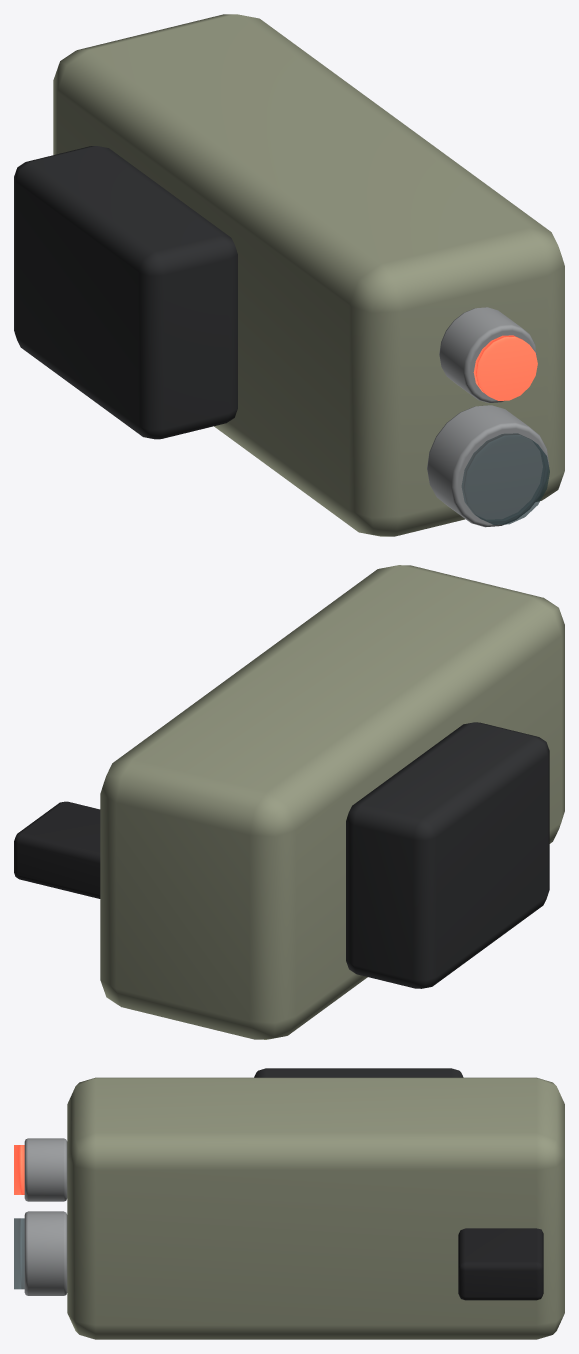
File: laser.glb
3 renders of one model, top to bottom at view 1: azimuth 30°, elevation 25°; view 2: azimuth 150°, elevation 25°; view 3: azimuth 270°, elevation 25°, orthographic. The views are drawn at different scales.
Parts seen in each view (by area): view 1: laser; view 2: laser; view 3: laser.
Boxes of the visible parts, box(x1,y1,x2,y2) form: laser: box(14, 14, 564, 536); laser: box(14, 565, 564, 1039); laser: box(14, 1068, 564, 1339).
Bounding box in the file's own units: 0.05 × 0.032 × 0.0775.
